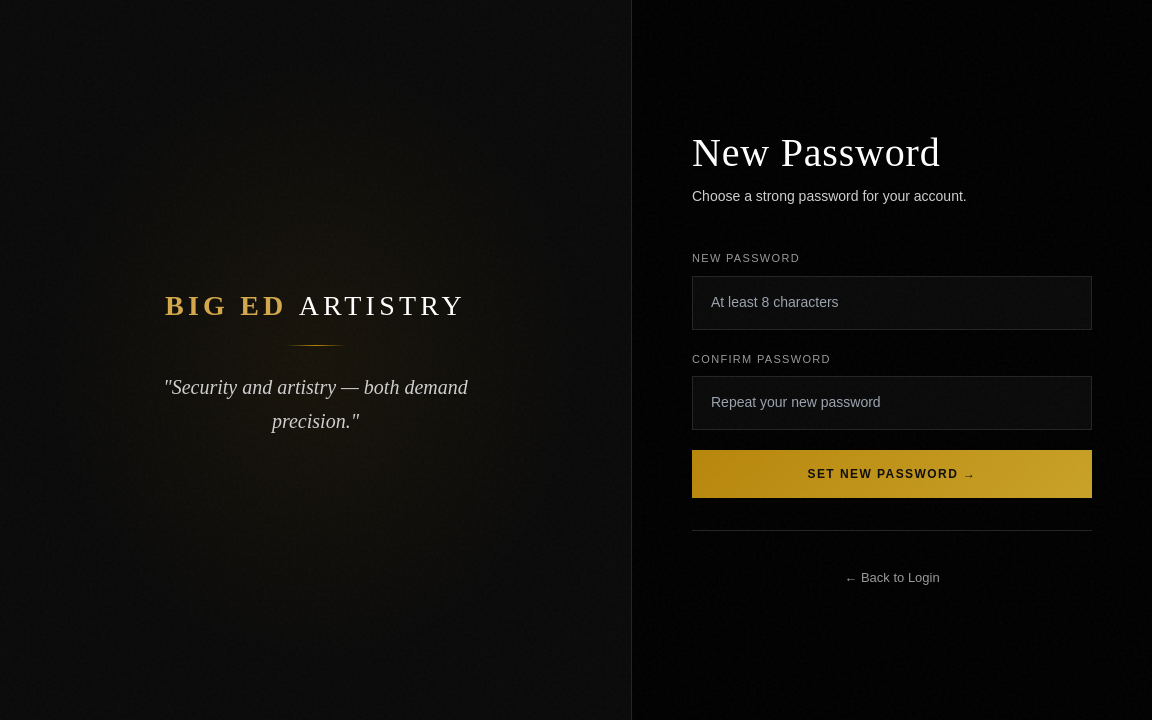
it: password reset form › shows error when passwords do not match
Type "newpass123" into the password field with placeholder "At least 8 characters" at [892, 303], box [692, 276, 1092, 330]
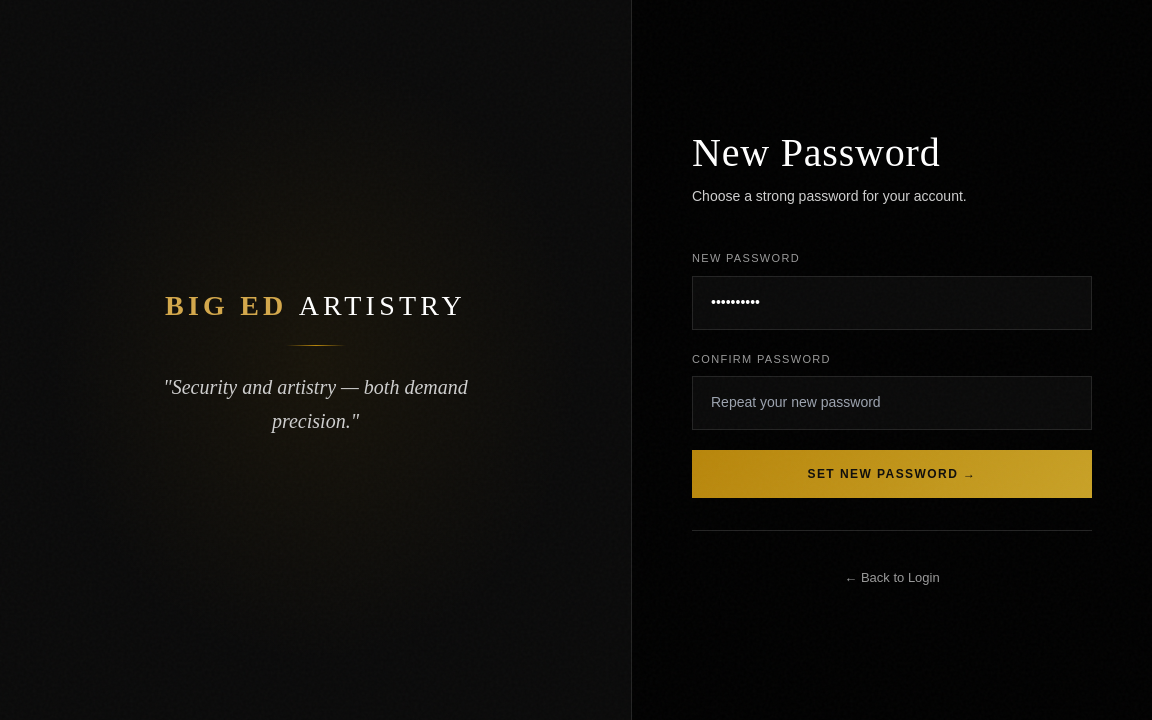
Type "different1" into the password field with placeholder "Repeat your new password" at [892, 403], box [692, 376, 1092, 430]
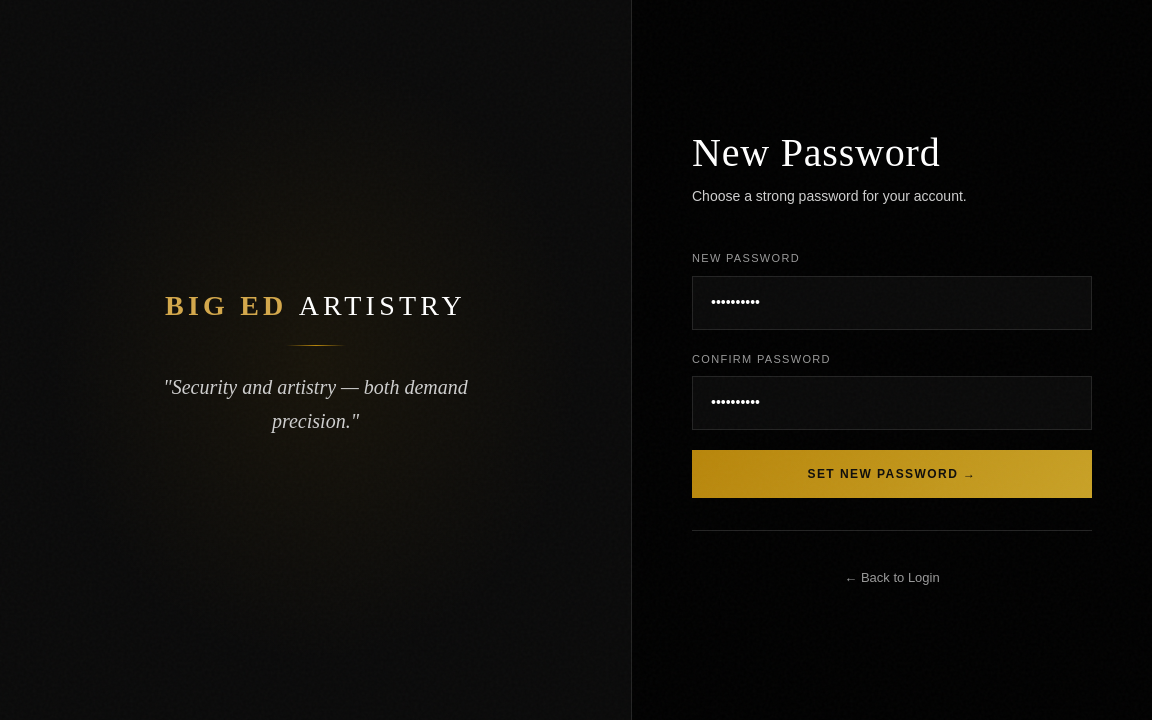
Click the button "Set New Password →" at [892, 474], box [692, 450, 1092, 498]
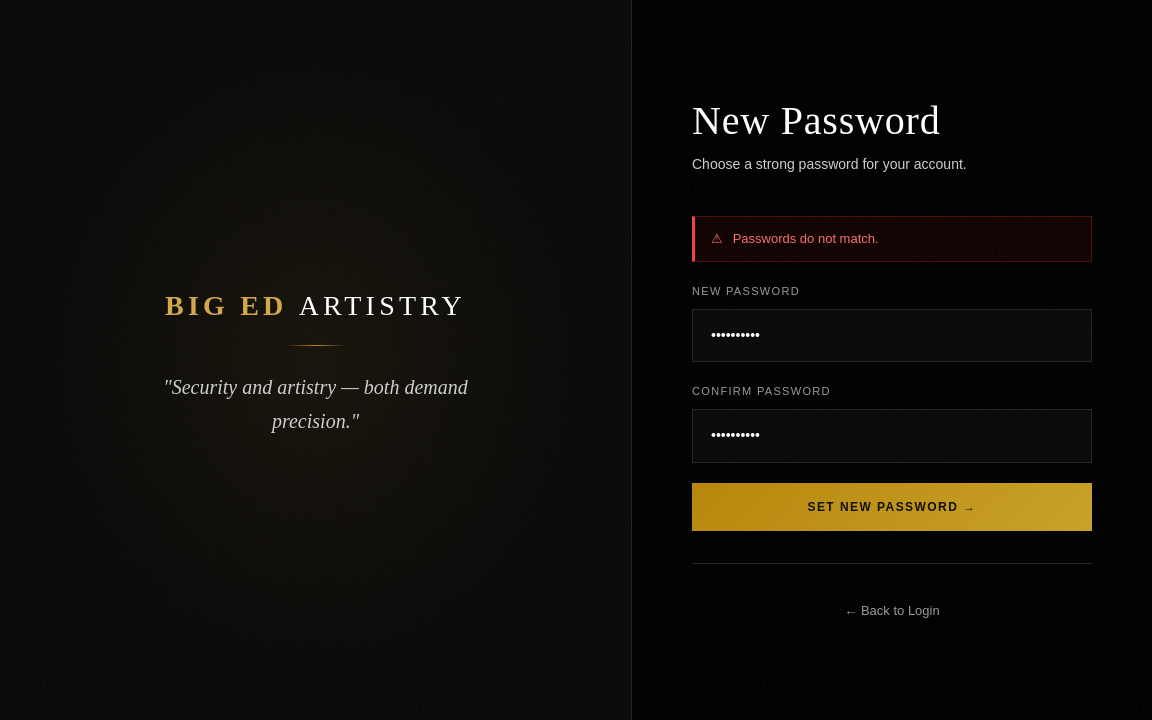
Expected: the text "Passwords do not match." is shown, [733, 229, 879, 249]
